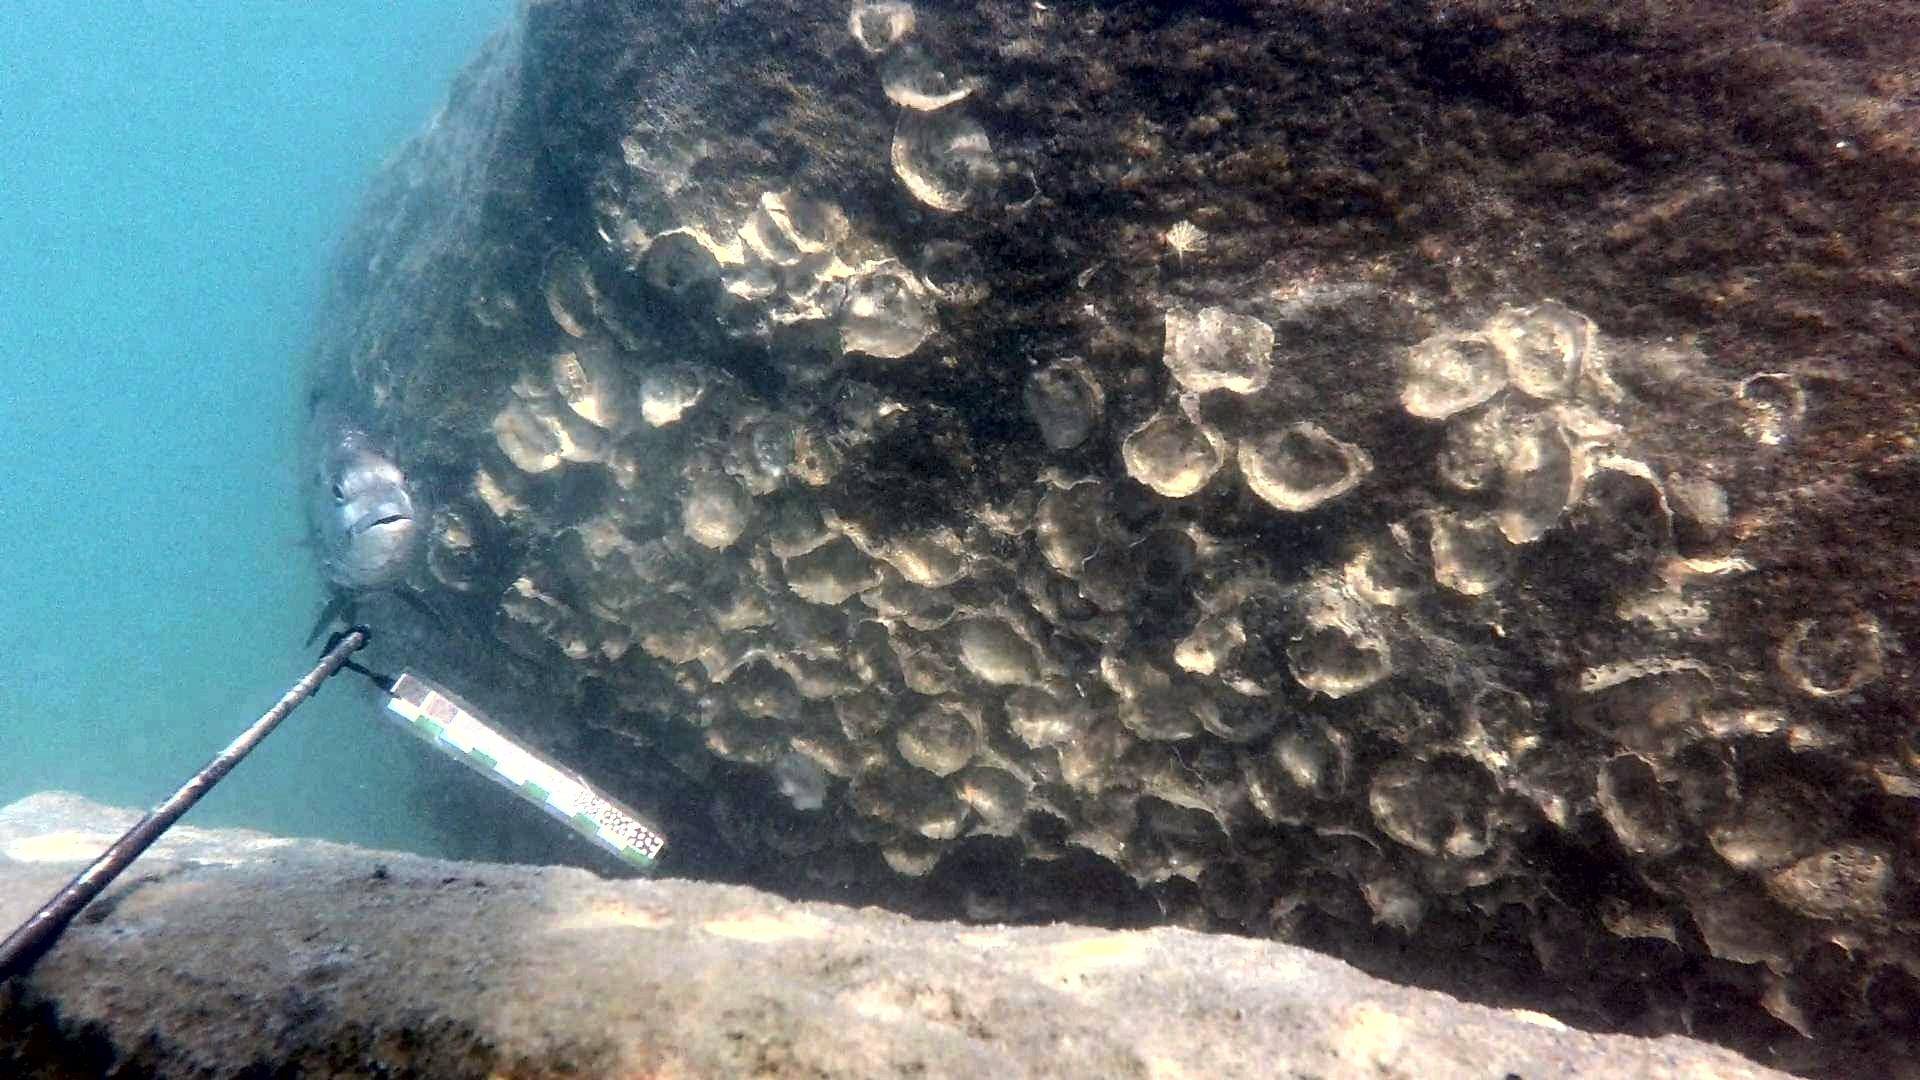acanthopagrus palmaris: (293, 385, 462, 661)
